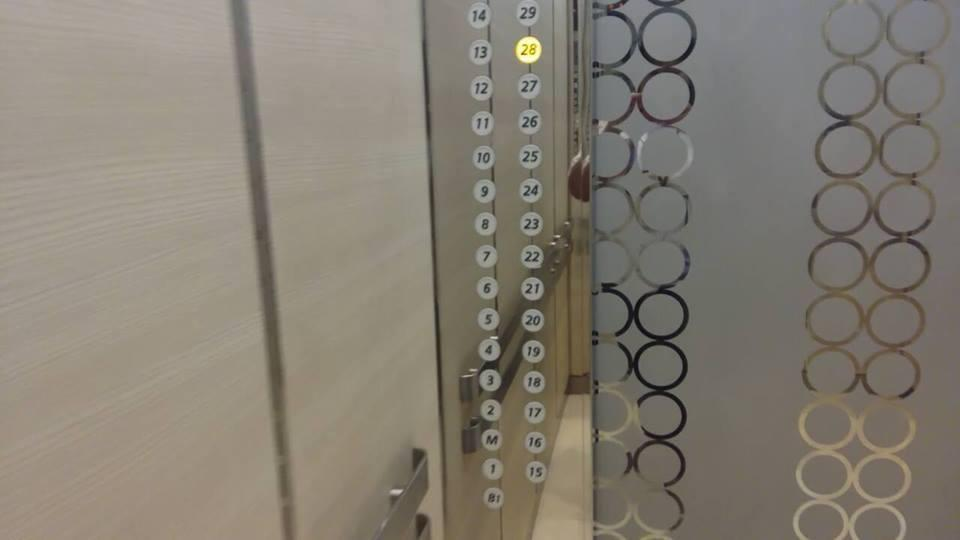1: (480, 454, 504, 482)
10: (468, 143, 496, 172)
11: (467, 109, 495, 137)
12: (467, 74, 494, 102)
13: (466, 37, 494, 65)
14: (464, 0, 492, 30)
15: (522, 459, 548, 485)
16: (522, 429, 547, 455)
17: (520, 398, 546, 425)
18: (520, 368, 544, 396)
19: (519, 337, 546, 365)
2: (477, 397, 503, 422)
20: (519, 306, 545, 334)
21: (518, 274, 544, 302)
22: (517, 241, 544, 270)
23: (516, 208, 543, 237)
24: (516, 176, 543, 204)
25: (516, 141, 543, 171)
26: (514, 106, 542, 137)
27: (514, 71, 541, 101)
28: (512, 34, 542, 65)
29: (512, 0, 541, 27)
3: (476, 367, 503, 393)
4: (475, 335, 502, 363)
5: (474, 306, 500, 331)
6: (473, 274, 499, 300)
7: (472, 242, 498, 267)
8: (470, 210, 498, 237)
9: (469, 177, 496, 204)
B1: (479, 484, 506, 511)
unknown: (479, 426, 503, 451)
